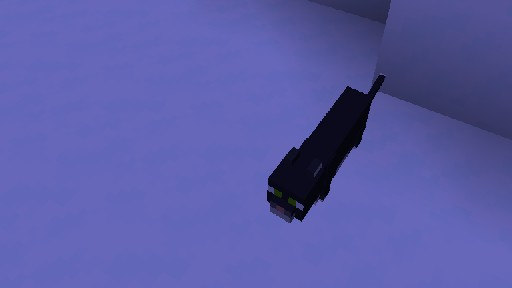cat: (266, 65, 389, 223)
